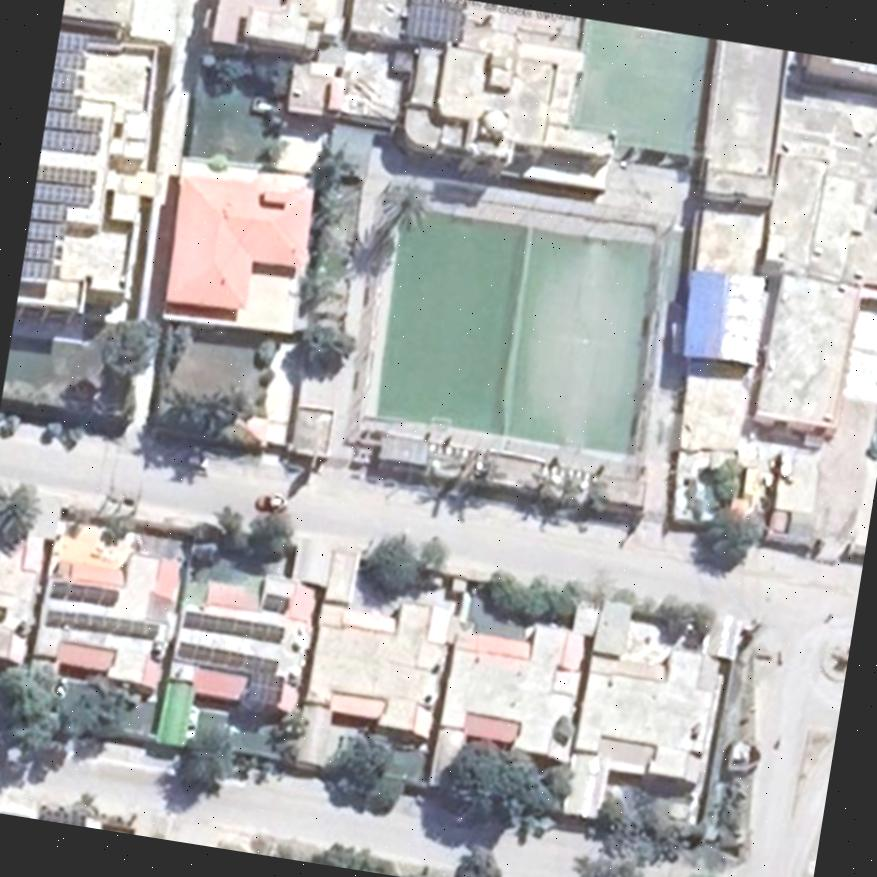Solarpanel: (21, 199, 64, 278), (47, 32, 90, 110), (49, 610, 158, 640), (179, 640, 276, 673), (402, 0, 470, 42), (183, 611, 285, 639), (40, 111, 102, 155), (49, 580, 118, 603), (34, 182, 92, 207), (249, 671, 280, 701)
